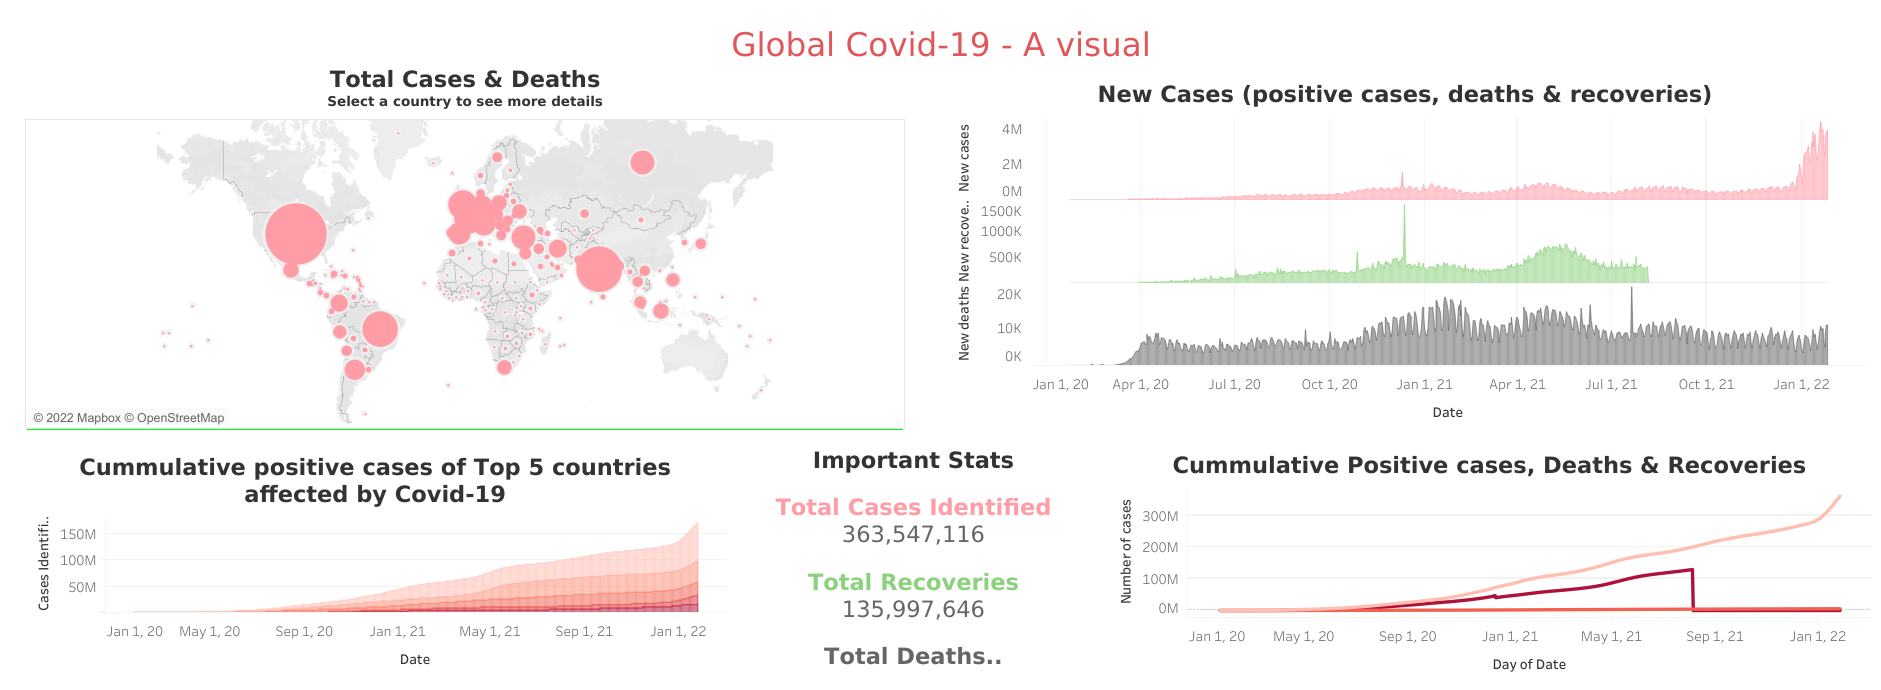

The page's visual inventory and layout, read from the dashboard file:
{"tool":"tableau","page":{"name":"Final Dashboard","canvas":[1000,1000],"units":"permille","ordinal":0},"visuals":[{"type":"title","box":[4.9,9.4,990.1,75.2]},{"type":"worksheet","title":"Geo Map","mark":"Automatic","box":[10.9,78.7,472.5,549.9]},{"type":"worksheet","title":"New Cases Separate","mark":"Area","rows":["New cases","New recovered","New deaths"],"cols":["Date"],"box":[502.1,108.1,488.8,513.5]},{"type":"text","box":[377.8,642.8,215.5,330.2]},{"type":"worksheet","title":"Cummulative Cases","mark":"Automatic","cols":["Date"],"box":[588.4,642.8,406.2,344.3]},{"type":"worksheet","title":"Top 5 Countries Cummulative Data","mark":"Area","rows":["Total cases"],"cols":["Date"],"box":[13.3,646.3,372.4,332.6]}]}

Visuals, with their boxes on the dashboard's canvas, which has no fixed pixel size, in thousandths of its width and height (x1, y1, x2, y2). These are canvas units, not pixel positions in the 1881x690 screenshot, which may show the page scaled, cropped or inside an application window:
title: region(5, 9, 995, 85)
"Geo Map" worksheet: region(11, 79, 483, 629)
"New Cases Separate" worksheet (Area marks): region(502, 108, 991, 622)
text: region(378, 643, 593, 973)
"Cummulative Cases" worksheet: region(588, 643, 995, 987)
"Top 5 Countries Cummulative Data" worksheet (Area marks): region(13, 646, 386, 979)
